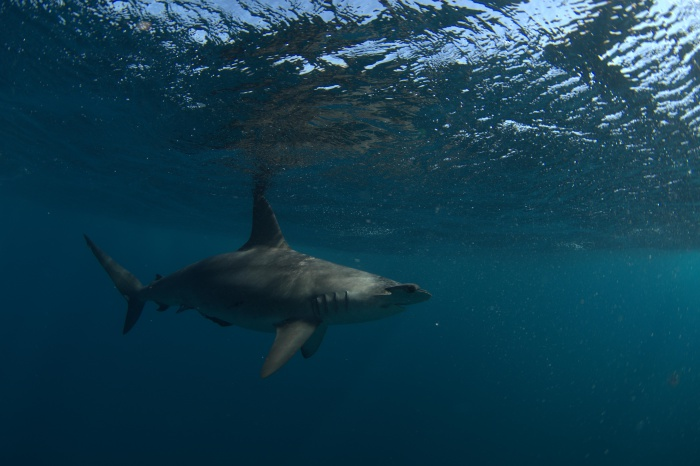Hammer: (71, 181, 452, 394)
